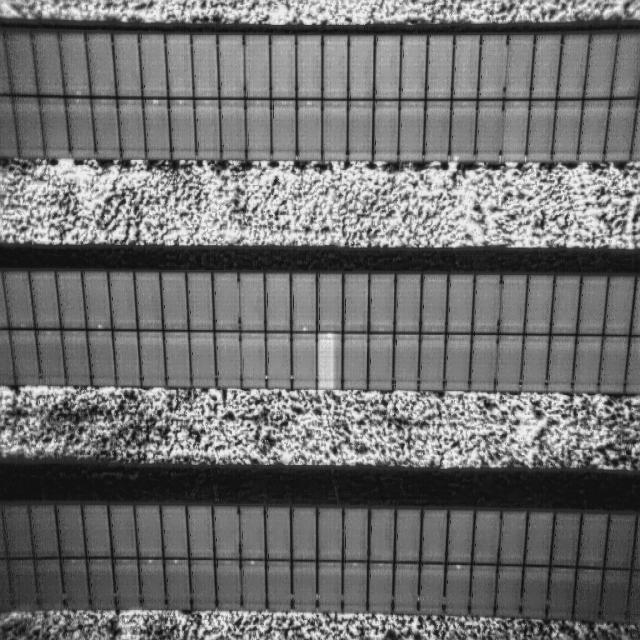diode: (316, 330, 342, 387)
